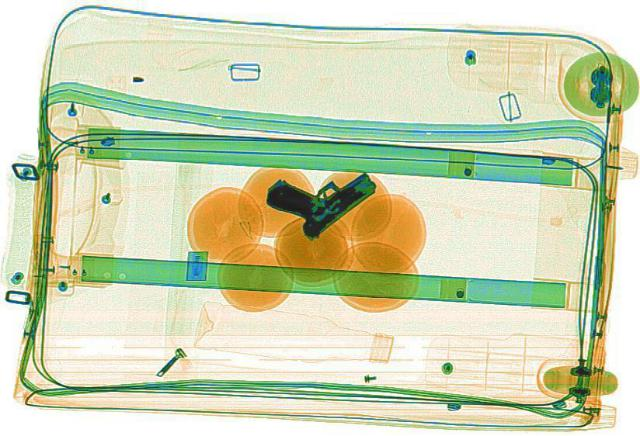Gun: (243, 144, 391, 238)
